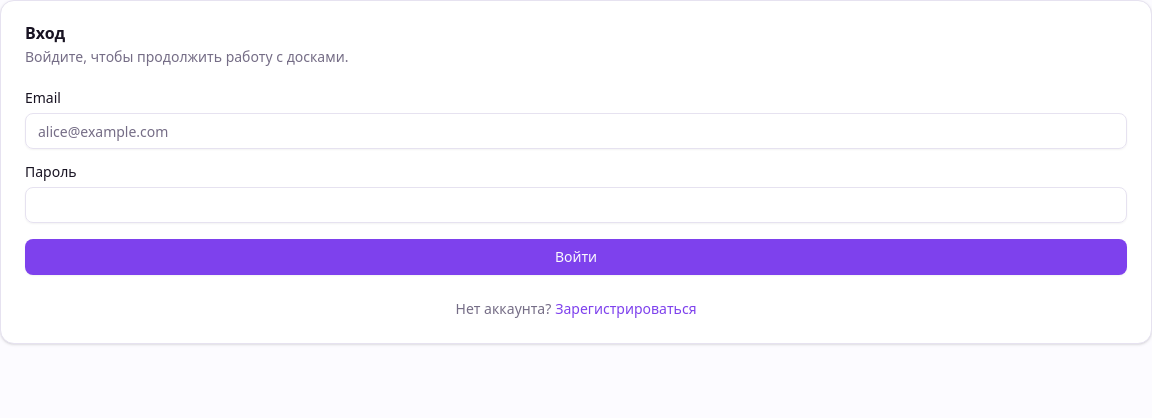
Scenario: LoginPage › validates the form before submitting
Click the button "Войти" at coordinates (576, 257), box [25, 239, 1127, 275]
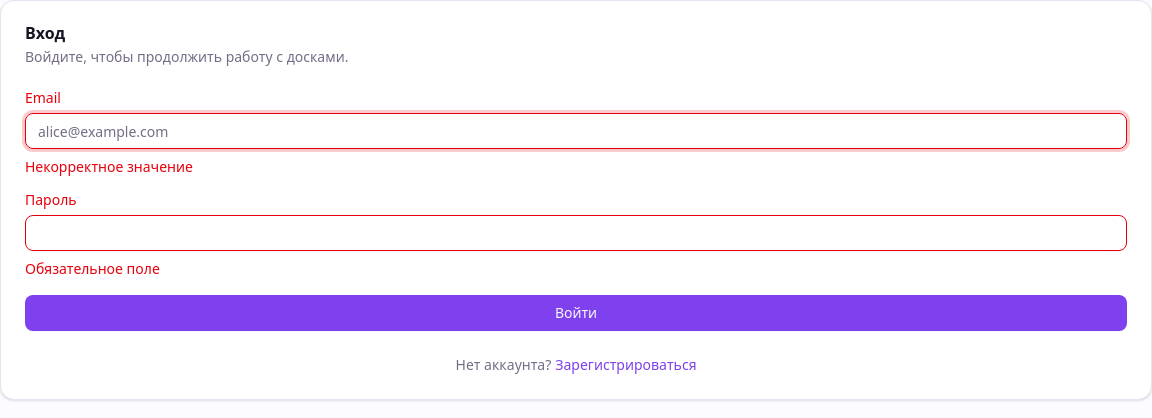
Expected: the text "Некорректное значение" is shown, [25, 157, 193, 176]
Expected: the text "Обязательное поле" is shown, [25, 259, 160, 278]
